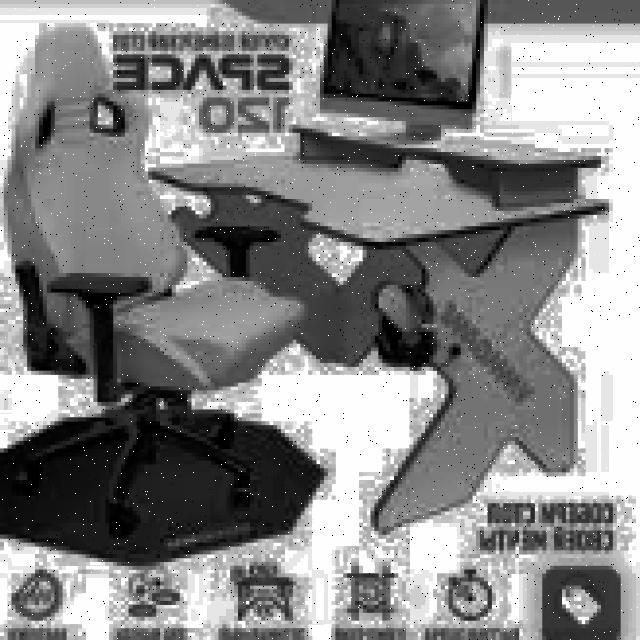book: (4, 24, 308, 538)
table: (152, 132, 609, 530)
